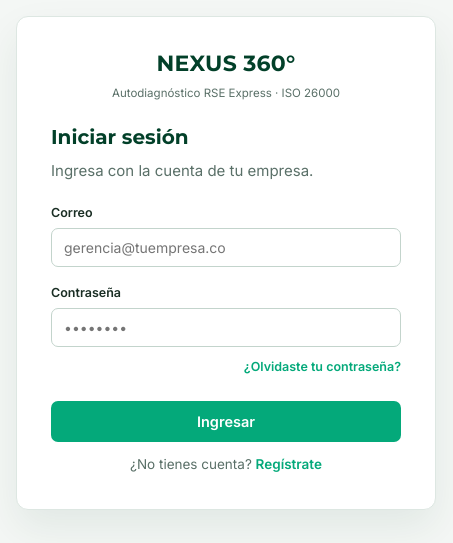
Scenario: navegación (AuthGate) › desde el login se llega a «¿Olvidaste tu contraseña?» con el correo puesto
Type "gerencia@empresa.co" into the field labelled "Correo" at (226, 247), box [51,228,401,267]
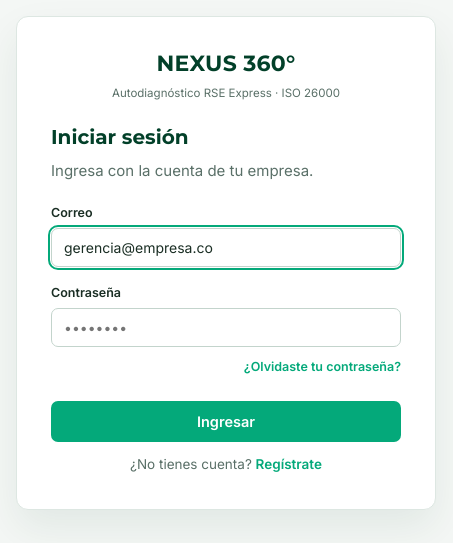
Click the button "¿Olvidaste tu contraseña?" at (322, 367), box [244,355,401,379]
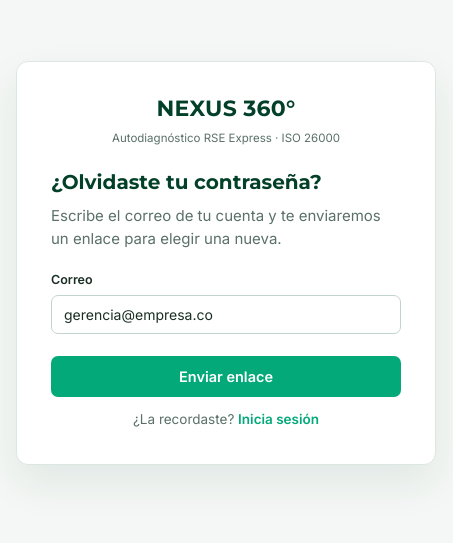
expect the heading "¿Olvidaste tu contraseña?" is shown: met, box [51,170,322,194]
expect the field labelled "Correo" holds "gerencia@empresa.co": met, box [51,295,401,334]
